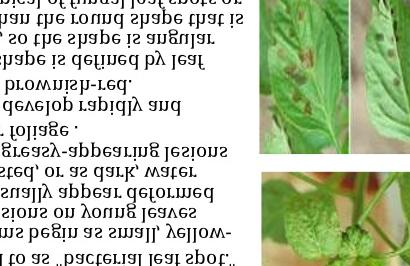Tomato leaf bacterial spot: (270, 0, 342, 150), (362, 0, 410, 152), (283, 182, 346, 257)
